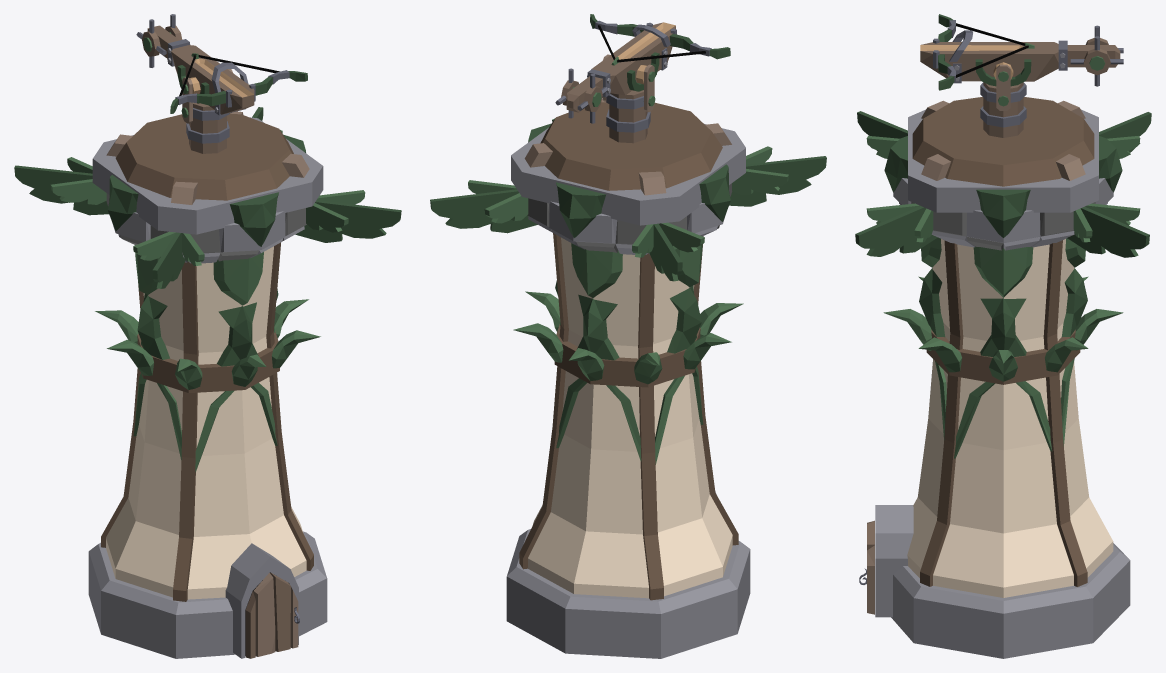
File: Ballista_Tower_LVL_3.gltf
The picture shows the model from 3 angles, left to right: view 1: azimuth 30°, elevation 25°; view 2: azimuth 150°, elevation 25°; view 3: azimuth 270°, elevation 25°; orthographic projection. The views are drawn at different scales.
Parts seen in each view (by area): view 1: Ballista_Tower_LVL_3_Body, Ballista_Tower_LVL_3_Head; view 2: Ballista_Tower_LVL_3_Body, Ballista_Tower_LVL_3_Head; view 3: Ballista_Tower_LVL_3_Body, Ballista_Tower_LVL_3_Head.
Boxes of the visible parts, x1,y1,x2,y2 form: Ballista_Tower_LVL_3_Body: (14,107,401,658); Ballista_Tower_LVL_3_Head: (92,14,323,234); Ballista_Tower_LVL_3_Body: (430,118,826,658); Ballista_Tower_LVL_3_Head: (511,14,745,225); Ballista_Tower_LVL_3_Body: (855,111,1151,658); Ballista_Tower_LVL_3_Head: (884,14,1123,220).
Bounding box in the file's own units: 3.31 × 7.06 × 3.31.
Materials: 2 (2 with a texture image).
